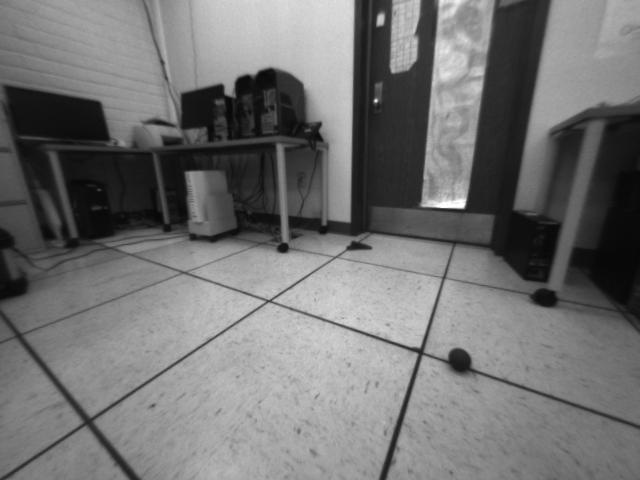dogtoy: (444, 340, 480, 379)
